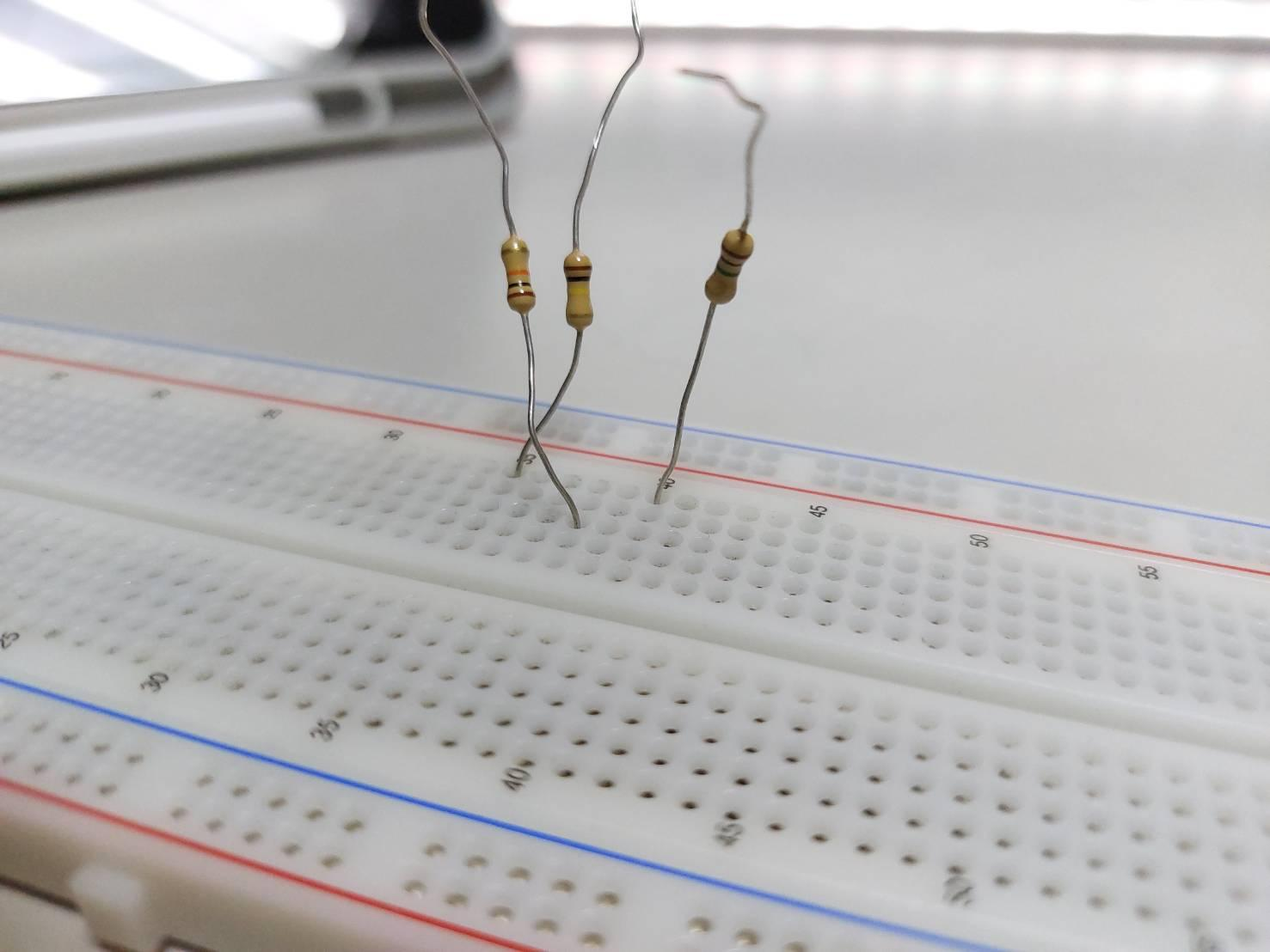resistor: (705, 228, 756, 307), (499, 239, 537, 314), (561, 251, 596, 329)
